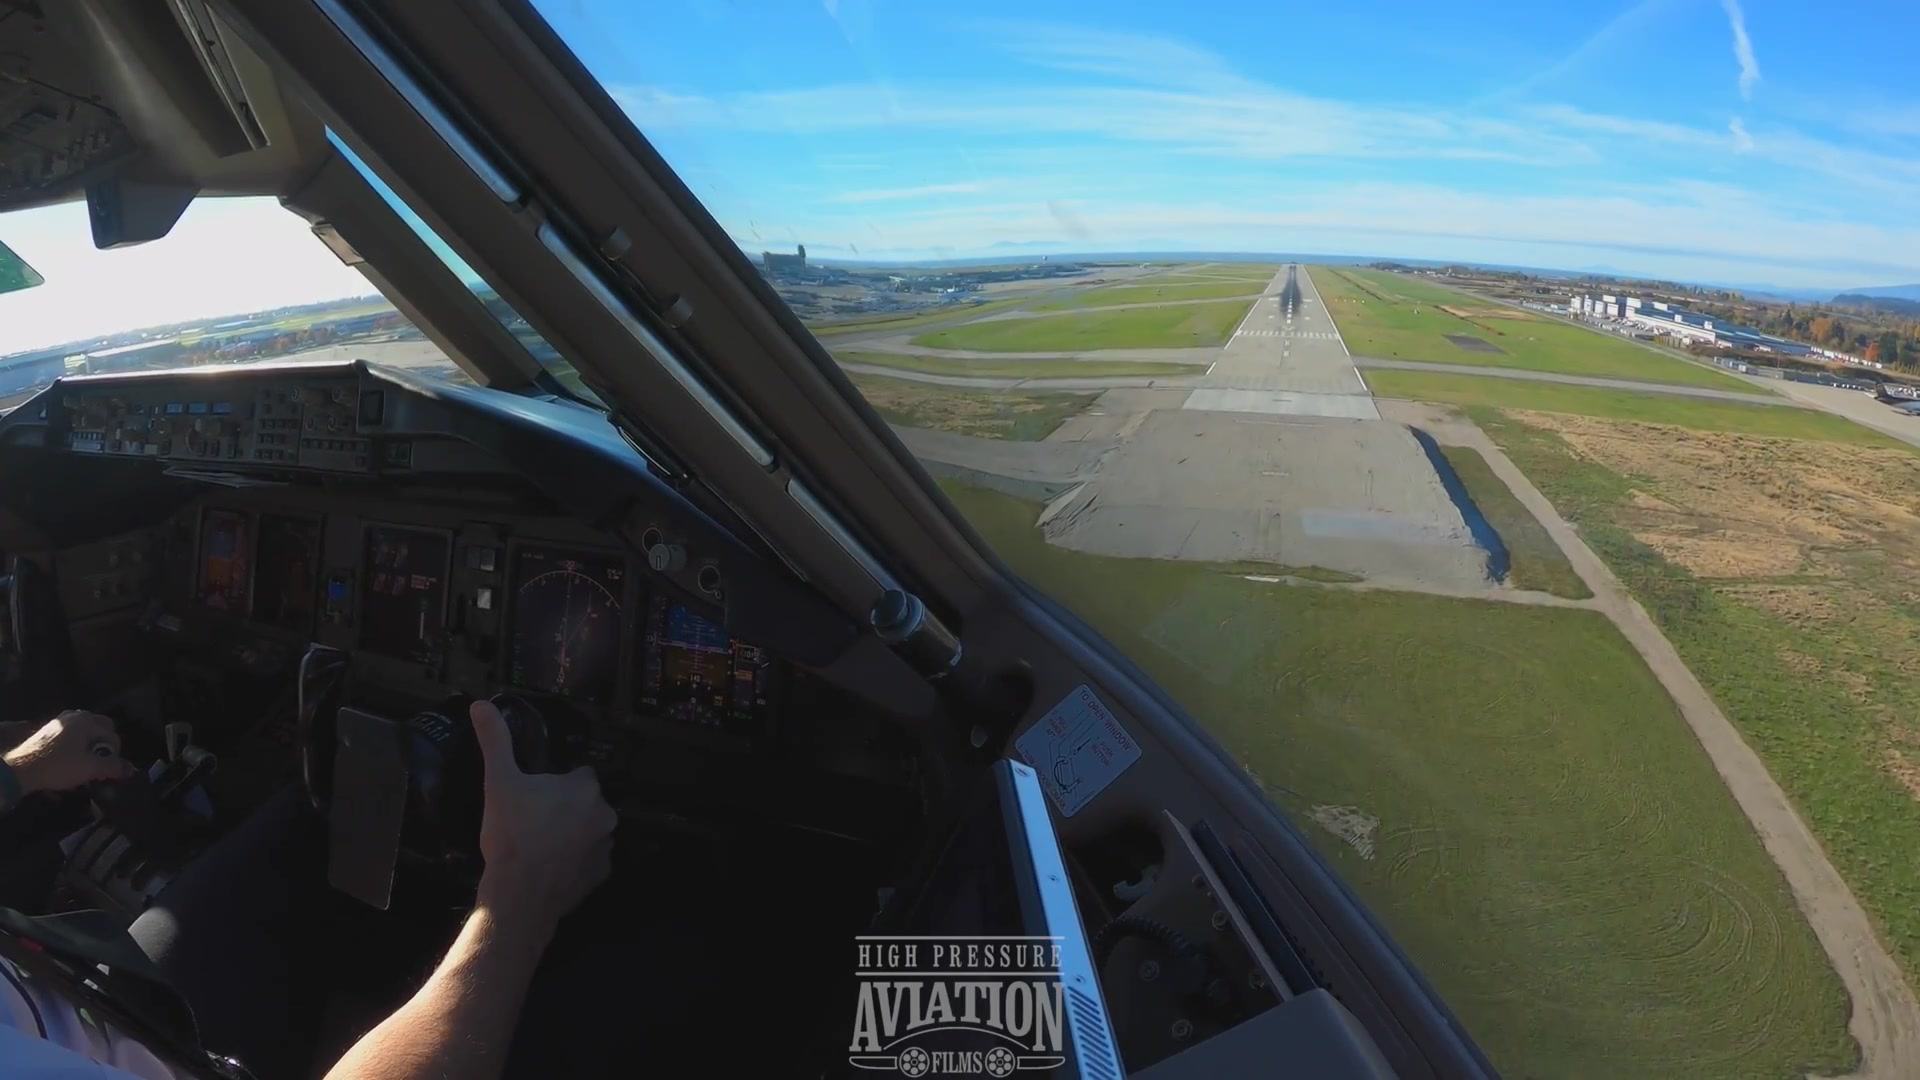entrance: (1232, 324, 1344, 342)
runway: (1201, 262, 1360, 385)
